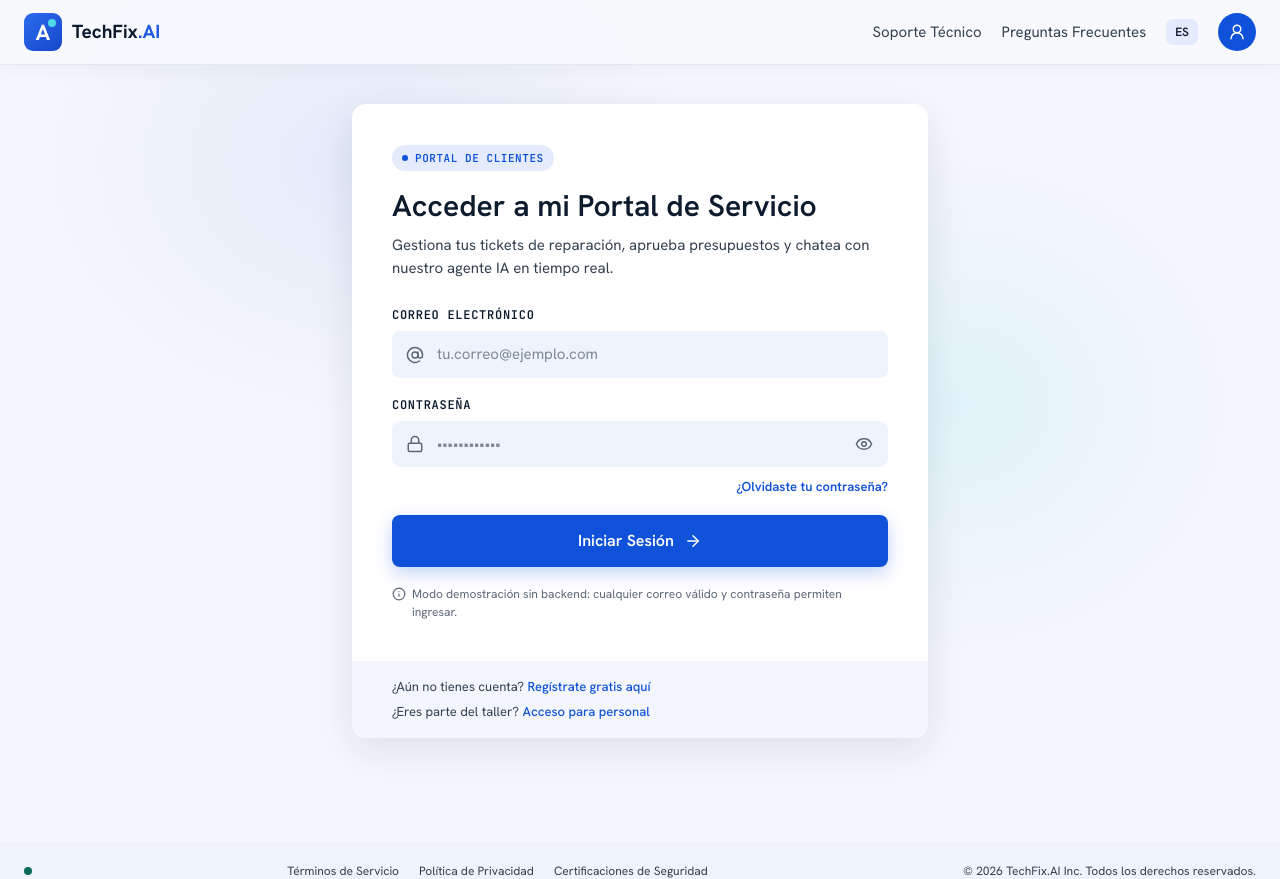
navegación desde la landing › desde el acceso se llega al registro
Click the link "Regístrate gratis aquí". click: (589, 686)
box: [527,678,650,695]
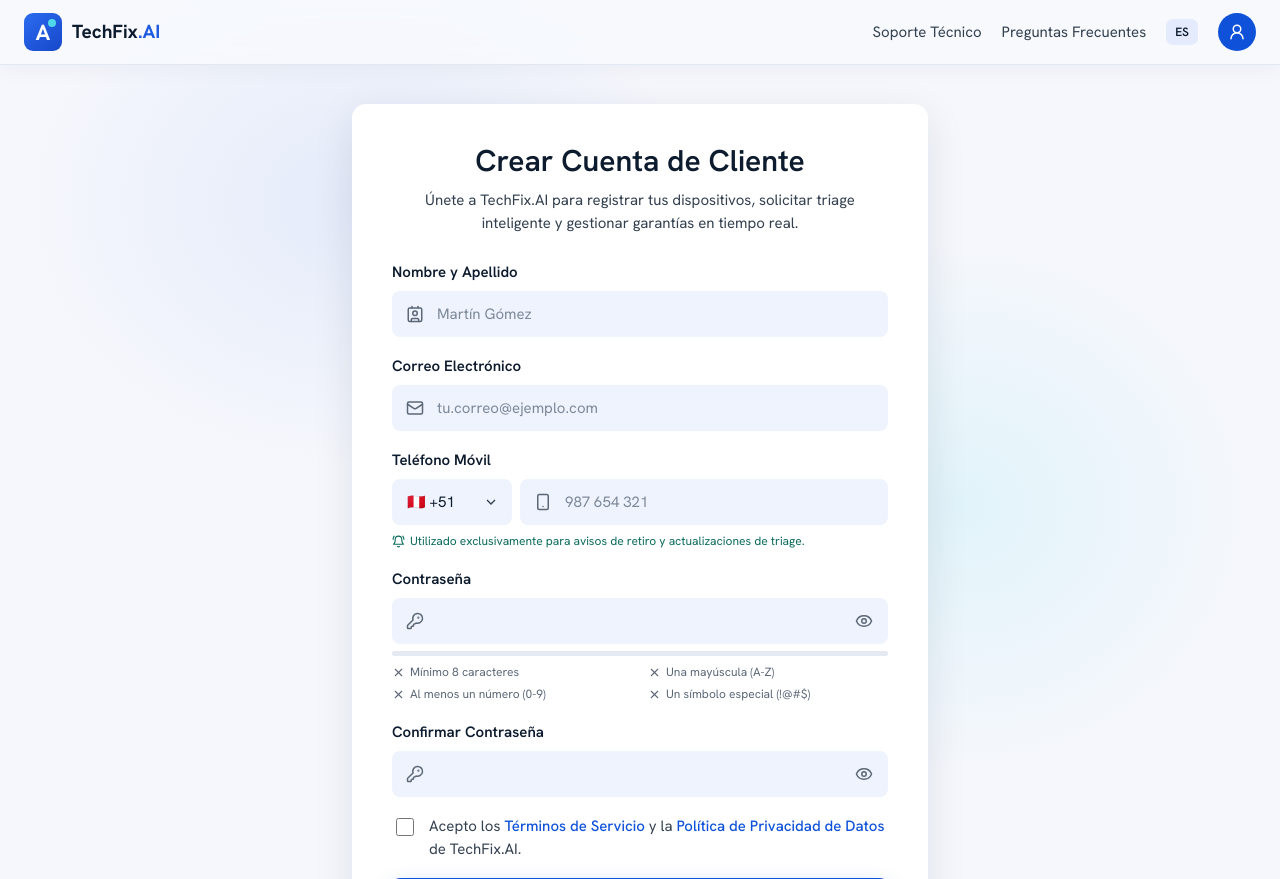
expect the heading "Crear Cuenta de Cliente" is shown: met, box [475,141,805,180]
